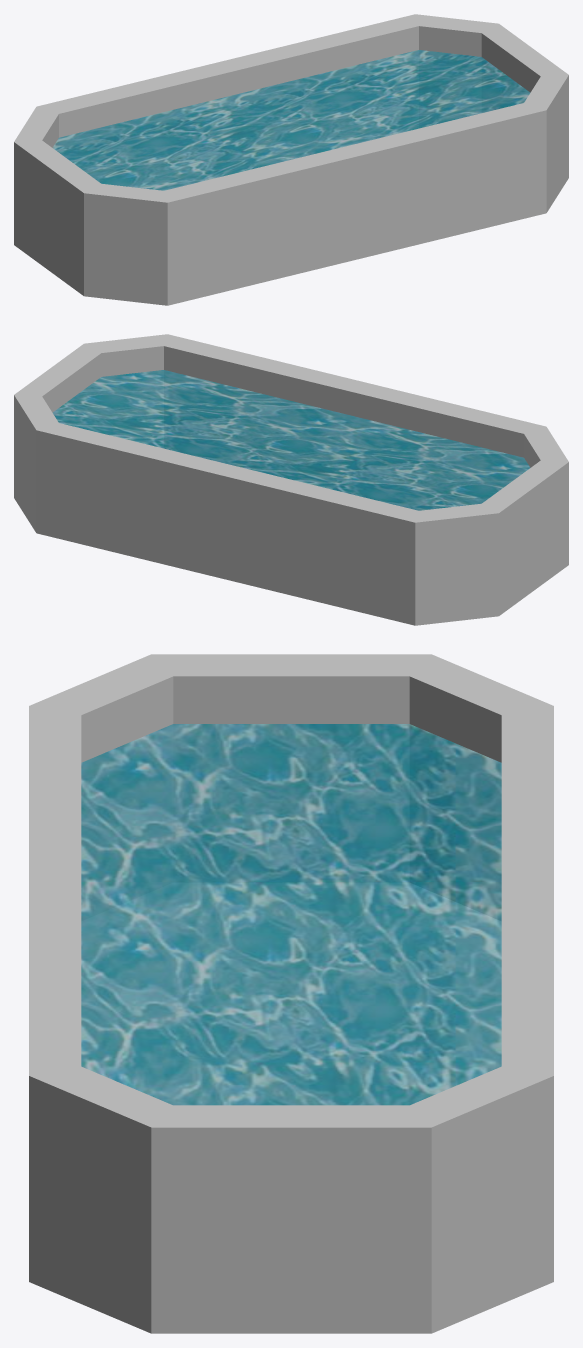
File: piscine1.dae
3 renders of one model, top to bottom at view 1: azimuth 30°, elevation 25°; view 2: azimuth 150°, elevation 25°; view 3: azimuth 270°, elevation 25°, orthographic. The views are drawn at different scales.
Parts seen in each view (by area): view 1: group_0 (×3); view 2: group_0 (×3); view 3: group_0 (×3).
Part boxes in pixels (x1,y1,x2,y2): group_0 (×3): (14,14,568,305); group_0 (×3): (14,334,568,625); group_0 (×3): (29,654,553,1333).
Bounding box in the file's own units: 252 × 118 × 51.18.
